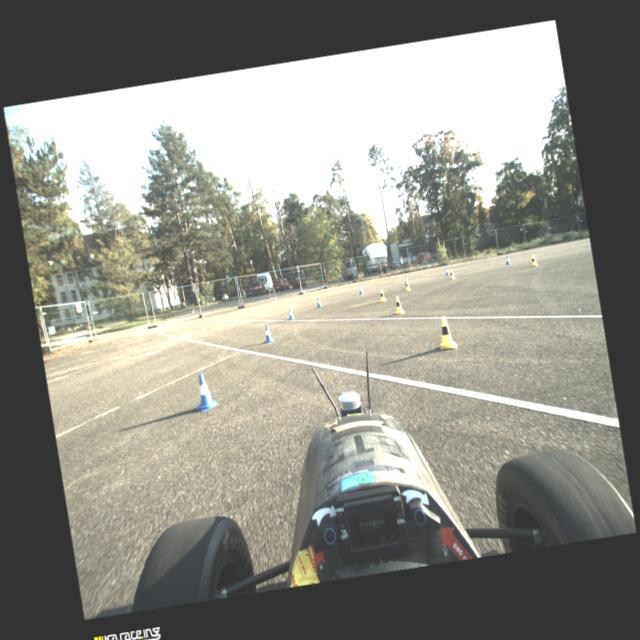blue_cone: (192, 372, 220, 412), (262, 323, 275, 342), (286, 308, 294, 320), (315, 297, 322, 308), (358, 285, 364, 294), (444, 267, 450, 275), (504, 256, 510, 264), (404, 275, 408, 284)
yellow_cone: (436, 316, 457, 350), (393, 296, 405, 314), (378, 289, 386, 302), (530, 254, 538, 266), (404, 280, 411, 292), (449, 268, 456, 280)
